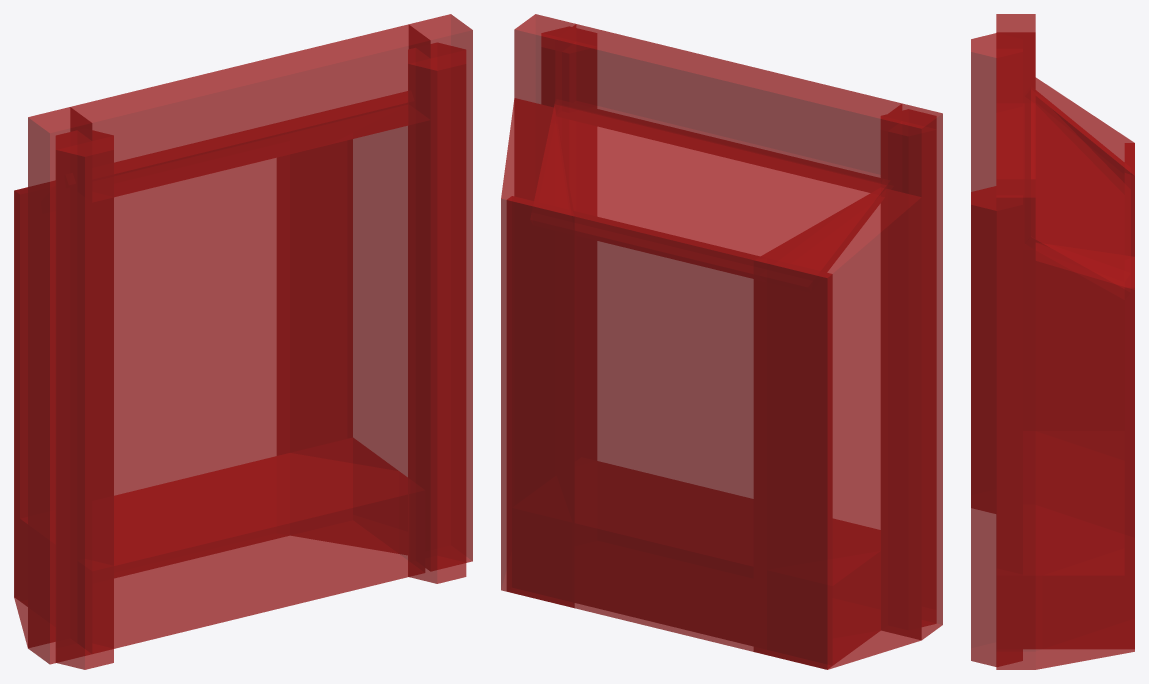
Rendered from SM_Bld_Wall_Seat_01_Collision.fbx.
3 renders of one model, left to right at view 1: azimuth 30°, elevation 25°; view 2: azimuth 150°, elevation 25°; view 3: azimuth 270°, elevation 25°, orthographic. The views are drawn at different scales.
Parts seen in each view (by area): view 1: SM_Bld_Wall_Seat_01_Collision; view 2: SM_Bld_Wall_Seat_01_Collision; view 3: SM_Bld_Wall_Seat_01_Collision.
Boxes of the visible parts, x1,y1,x2,y2 form: SM_Bld_Wall_Seat_01_Collision: (14,14,472,669); SM_Bld_Wall_Seat_01_Collision: (501,14,942,669); SM_Bld_Wall_Seat_01_Collision: (971,14,1134,669).
Size of the model in its own units: 250 by 300 by 94.32.
